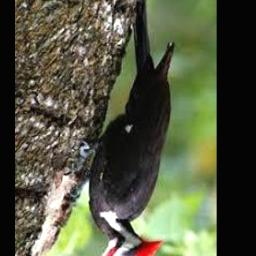Woodpecker: (70, 0, 174, 256)
